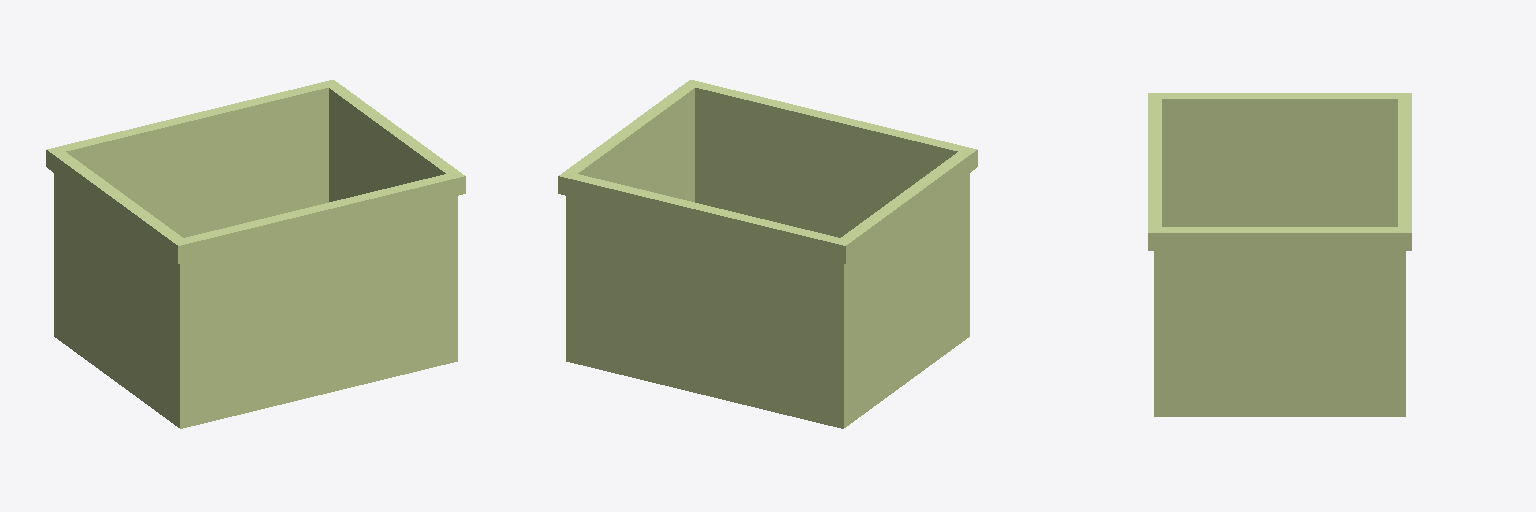
The model's file is aniport_bollbox.obj.
3 renders of one model, left to right at view 1: azimuth 30°, elevation 25°; view 2: azimuth 150°, elevation 25°; view 3: azimuth 270°, elevation 25°, orthographic.
Visible parts, largest first — view 1: Box013; view 2: Box013; view 3: Box013.
Boxes of the visible parts, <box> form: Box013: <box>46,80,465,428</box>; Box013: <box>558,80,977,428</box>; Box013: <box>1148,93,1411,416</box>.
Bounding box in the file's own units: 1.18 × 0.7302 × 0.9368.